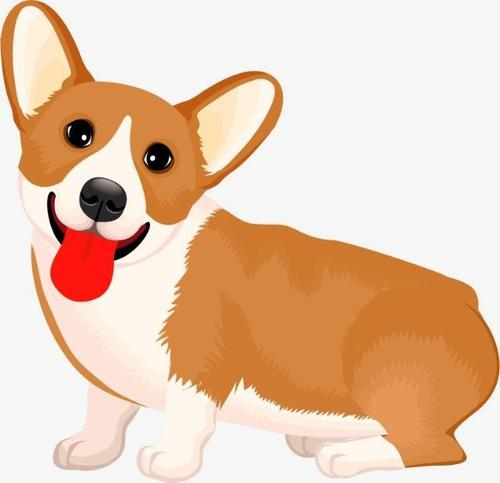dog: (0, 3, 281, 295)
